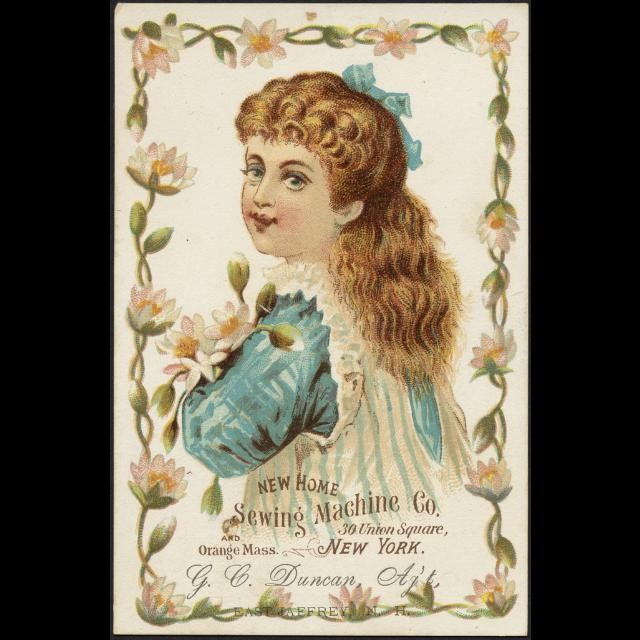Flower: (122, 139, 198, 195), (161, 344, 225, 390), (130, 26, 182, 80), (124, 283, 180, 333), (202, 300, 258, 350), (155, 311, 213, 357), (234, 15, 286, 66), (136, 575, 190, 621), (360, 17, 416, 59), (127, 460, 177, 506), (462, 455, 512, 501), (466, 570, 516, 616), (325, 581, 379, 621), (469, 17, 518, 61), (476, 206, 520, 254), (470, 326, 514, 366), (258, 584, 292, 616), (402, 582, 434, 612), (150, 516, 174, 552), (227, 252, 247, 290)
